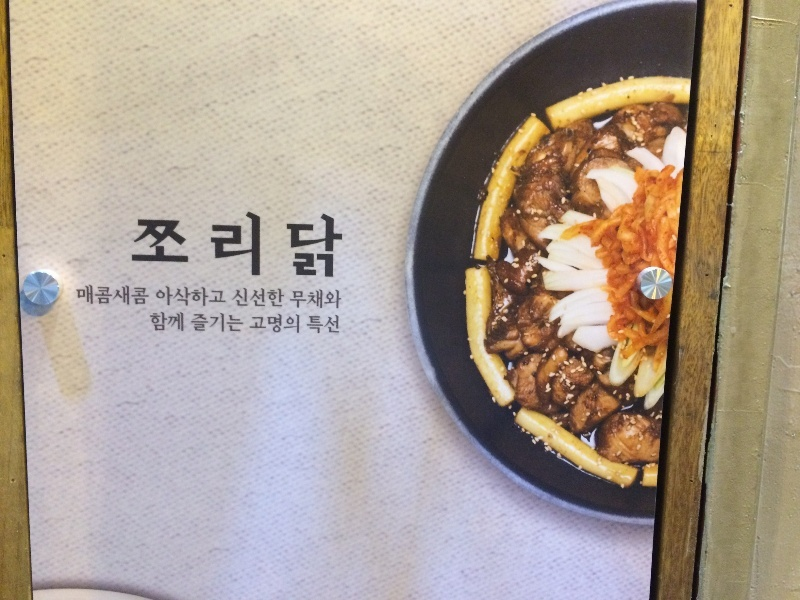text: (145, 211, 160, 281), (161, 211, 176, 281), (177, 211, 192, 281), (193, 211, 208, 281), (209, 211, 224, 281), (225, 211, 240, 281), (241, 211, 256, 281), (257, 211, 272, 281), (273, 211, 288, 281), (289, 211, 304, 281), (305, 211, 320, 281), (321, 211, 336, 281), (135, 211, 144, 281), (337, 211, 344, 281), (81, 284, 96, 306), (97, 284, 112, 306), (113, 284, 128, 306), (129, 284, 144, 306), (161, 286, 176, 307), (177, 286, 192, 307), (193, 286, 208, 307), (209, 286, 224, 307), (241, 287, 256, 308), (257, 287, 272, 308), (289, 288, 304, 309), (305, 288, 320, 309), (321, 288, 336, 309), (257, 313, 272, 334), (273, 313, 288, 334), (193, 312, 208, 333), (209, 312, 224, 333), (225, 312, 240, 333), (161, 312, 176, 333), (321, 314, 336, 334), (306, 314, 320, 334), (273, 287, 286, 308), (148, 312, 160, 333), (289, 313, 300, 334), (177, 312, 184, 333), (155, 286, 160, 307), (235, 287, 240, 308), (337, 288, 342, 309), (251, 313, 256, 334), (241, 312, 246, 333), (76, 284, 80, 306), (145, 284, 149, 306), (337, 314, 340, 334), (225, 286, 227, 307), (190, 312, 192, 333)
